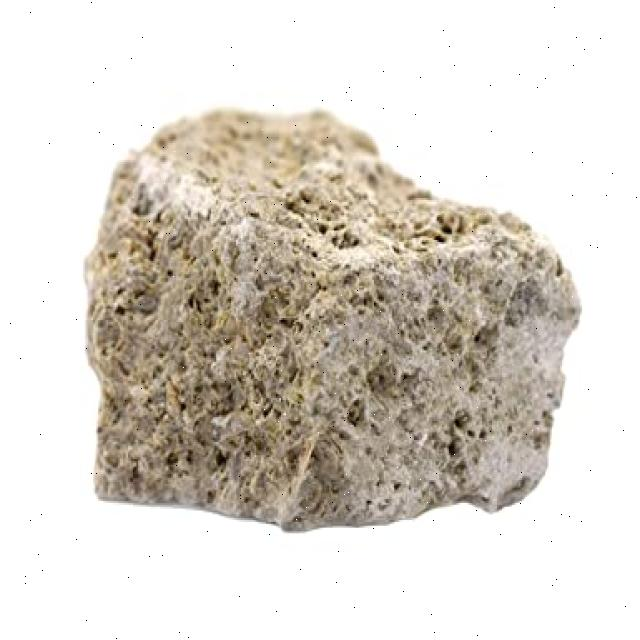Sedimentary: (80, 101, 577, 522)
